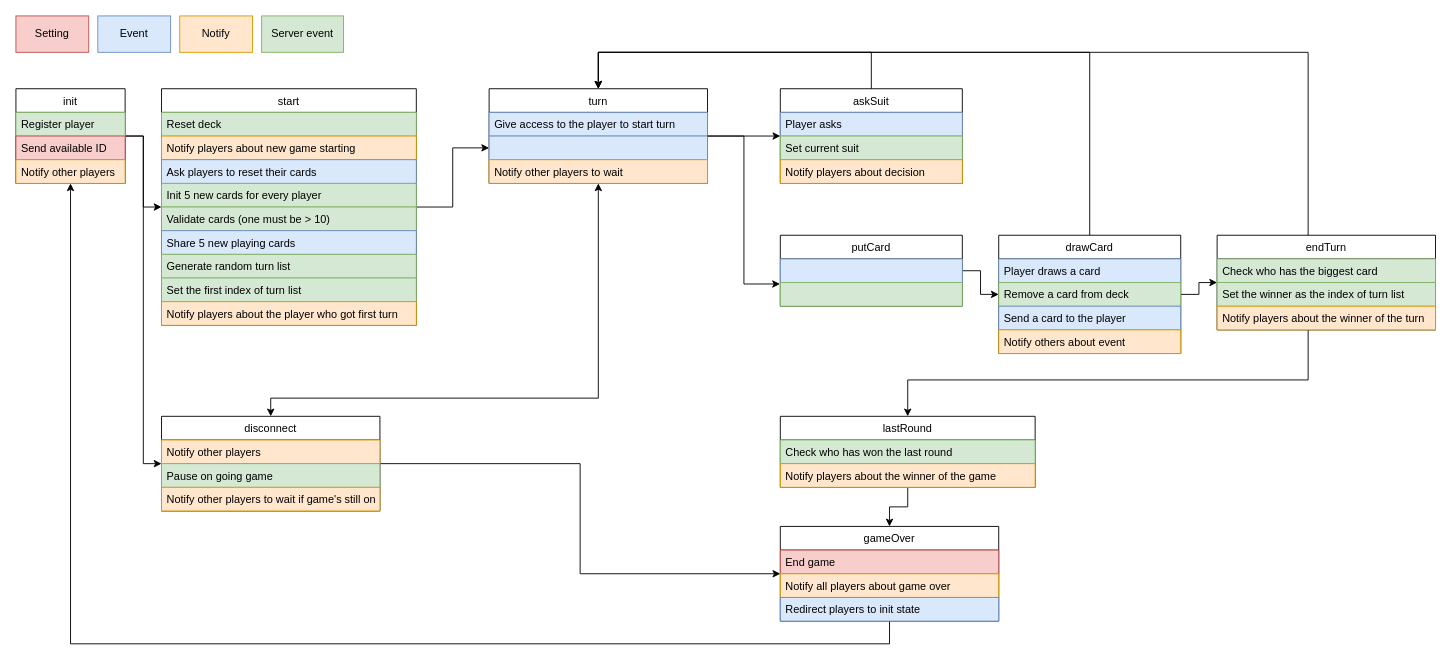
The diagram is 1451 pixels wide and 667 high, and some of its shapes have lost their labels. The centre of each missing label's shape, as x and y in pixels:
"Add new card to table" goes at point 870,294.
"Player puts card on table" goes at point 870,270.
"Send info of current suit on table" goes at point 598,147.
